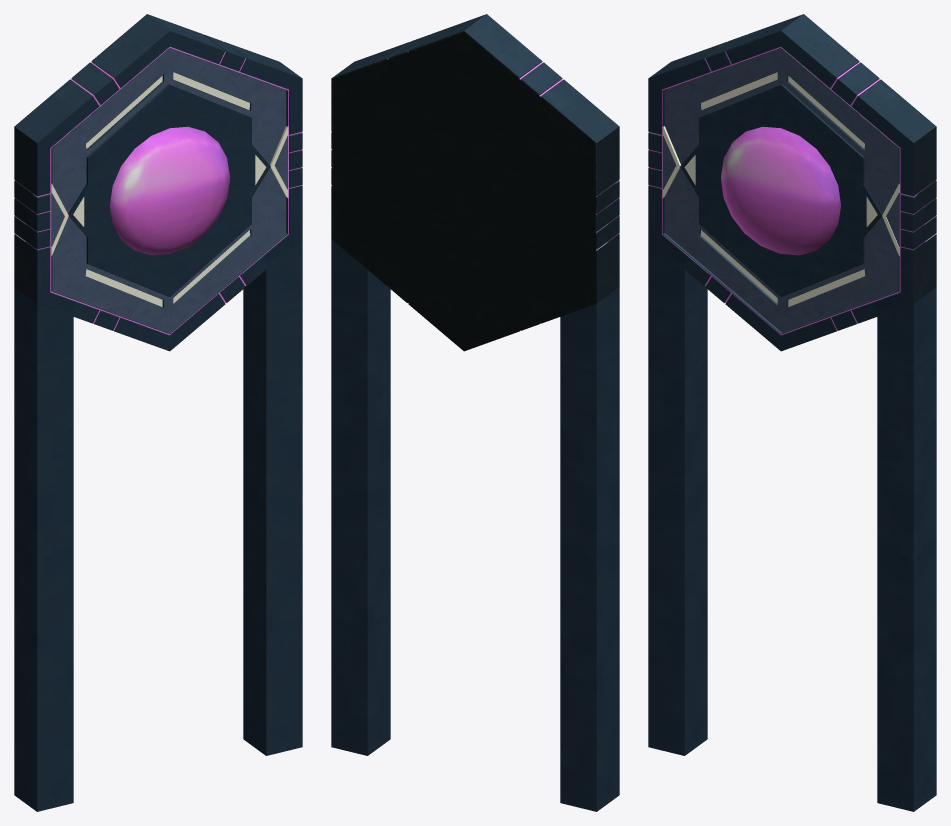
Rendered from teleporter01-art.glb.
3 views of the same model, side by side, from view 1: azimuth 30°, elevation 25°; view 2: azimuth 150°, elevation 25°; view 3: azimuth 330°, elevation 25° (orthographic).
Parts seen in each view (by area): view 1: Teleporter01_Art; view 2: Teleporter01_Art; view 3: Teleporter01_Art.
Boxes of the visible parts, left/top/right/bottom form: Teleporter01_Art: left=14, top=14, right=302, bottom=811; Teleporter01_Art: left=331, top=14, right=619, bottom=811; Teleporter01_Art: left=648, top=14, right=936, bottom=811.
Bounding box in the file's own units: 1.18 × 3.17 × 0.2487.
Materials: 1 (1 with a texture image).
